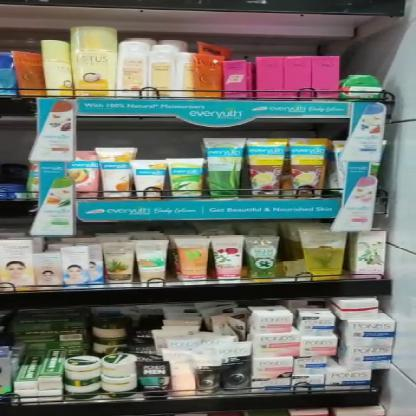EY NAT GLOW ORANGE PEEL OFF AY 90G: (98, 147, 132, 199), (136, 162, 162, 199)
EY RJ CUCUMBER ALOEVERA FACEPAK50G: (168, 158, 204, 198)
